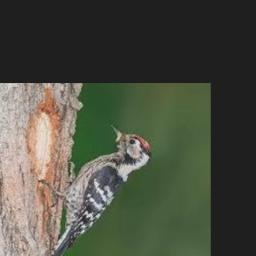Woodpecker: (39, 125, 152, 256)
